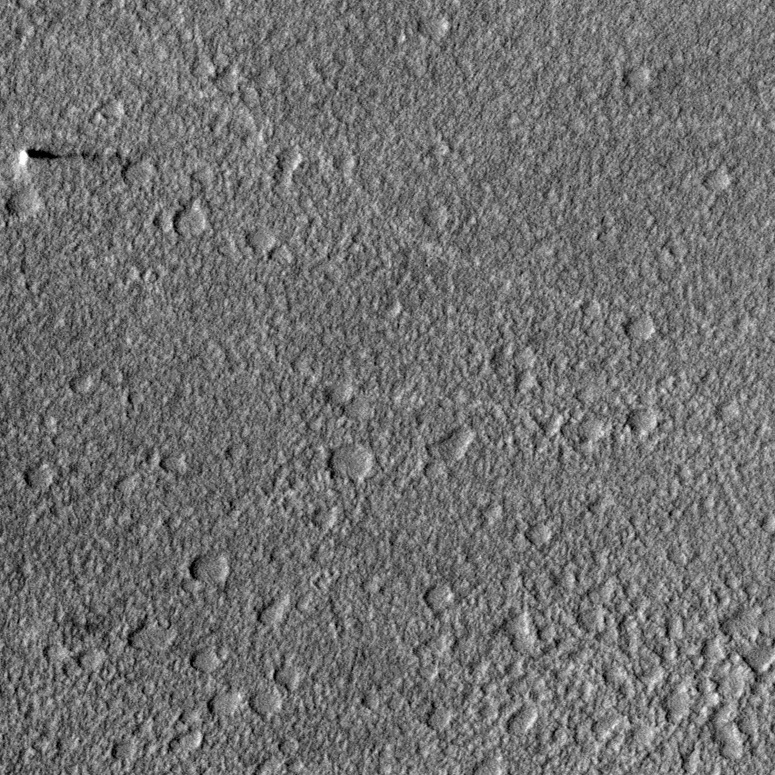dust_devil: (17, 148, 102, 166)
